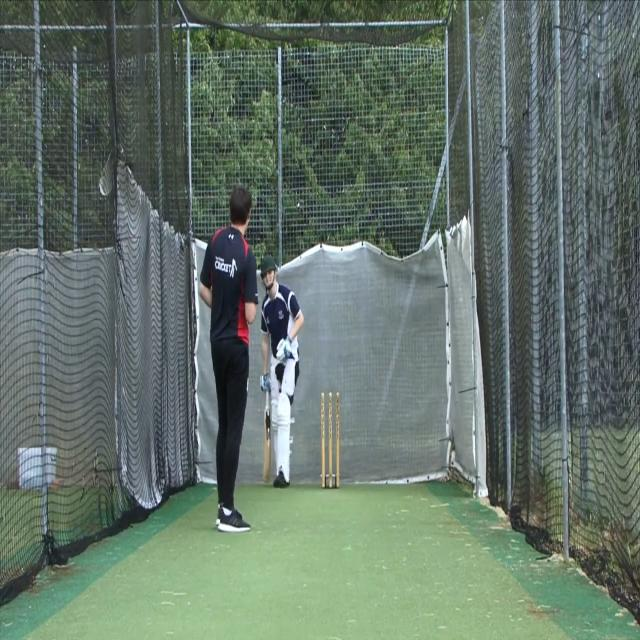batsman: (258, 252, 305, 491)
